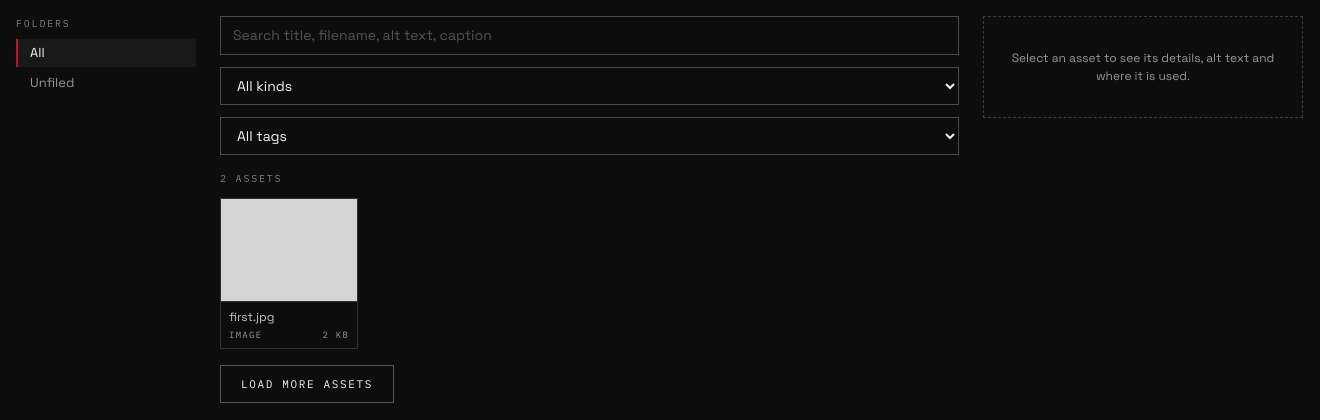
Scenario: media pagination › loads another library page without replacing the first
Click the button "Load more assets": x=307, y=384 [220,365,394,403]
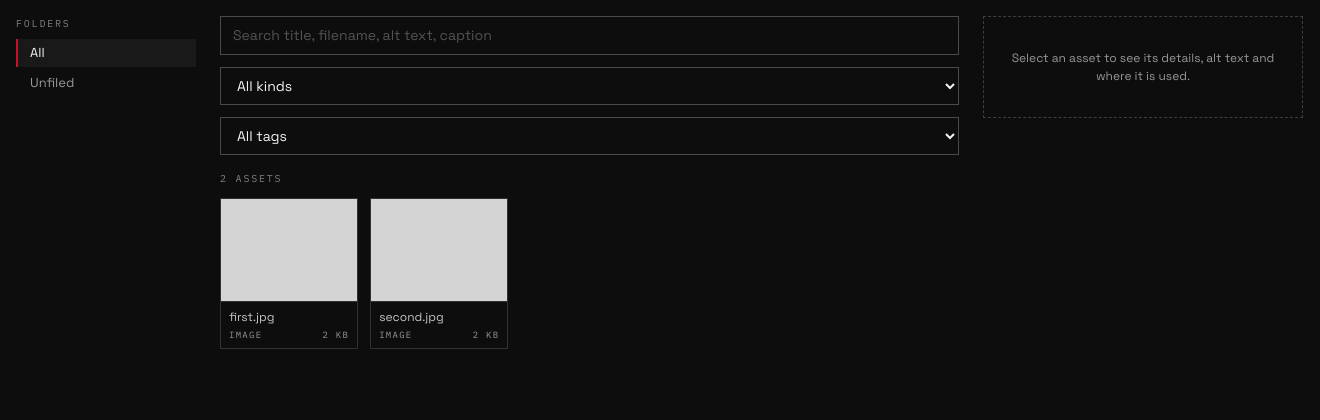
Now the button "Load more assets" is gone
